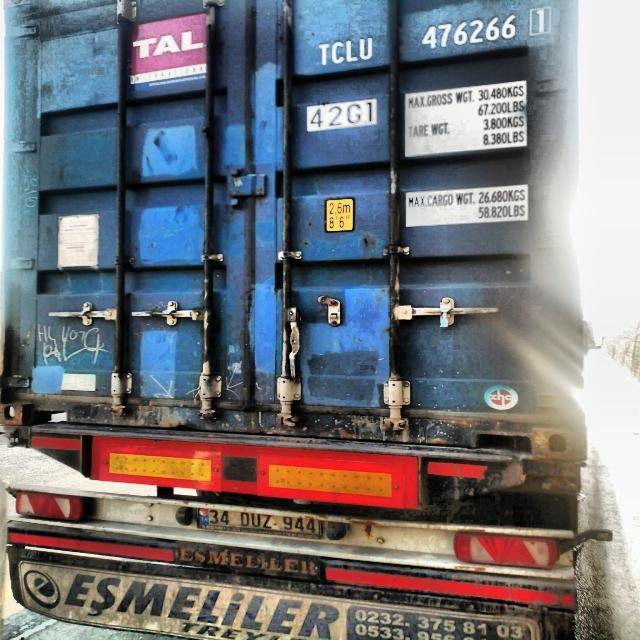ISO: (300, 102, 376, 132)
container_number: (310, 4, 554, 66)
